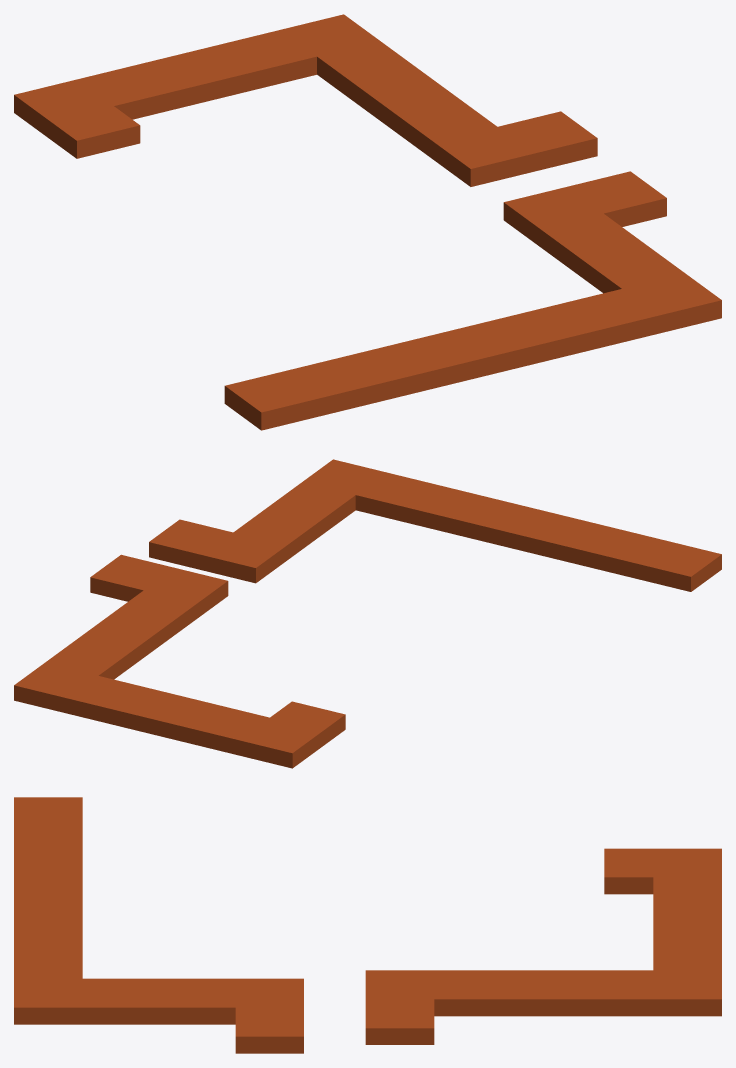
Rendered from bell_electrodes.glb.
3 views of the same model, one above another, from view 1: azimuth 30°, elevation 25°; view 2: azimuth 150°, elevation 25°; view 3: azimuth 270°, elevation 25° (orthographic). The views are drawn at different scales.
Visible parts, largest first — view 1: bell electrode; view 2: bell electrode; view 3: bell electrode.
Boxes of the visible parts, x1,y1,x2,y2 form: bell electrode: (14, 14, 721, 430); bell electrode: (14, 459, 721, 768); bell electrode: (14, 797, 721, 1053).
Size of the model in its own units: 90.89 by 4.51 by 114.
